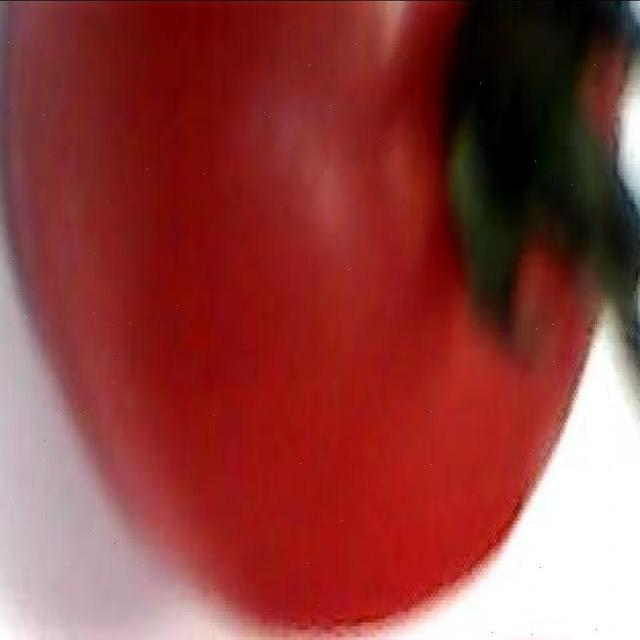Healthy Fruit: (0, 0, 416, 415)
